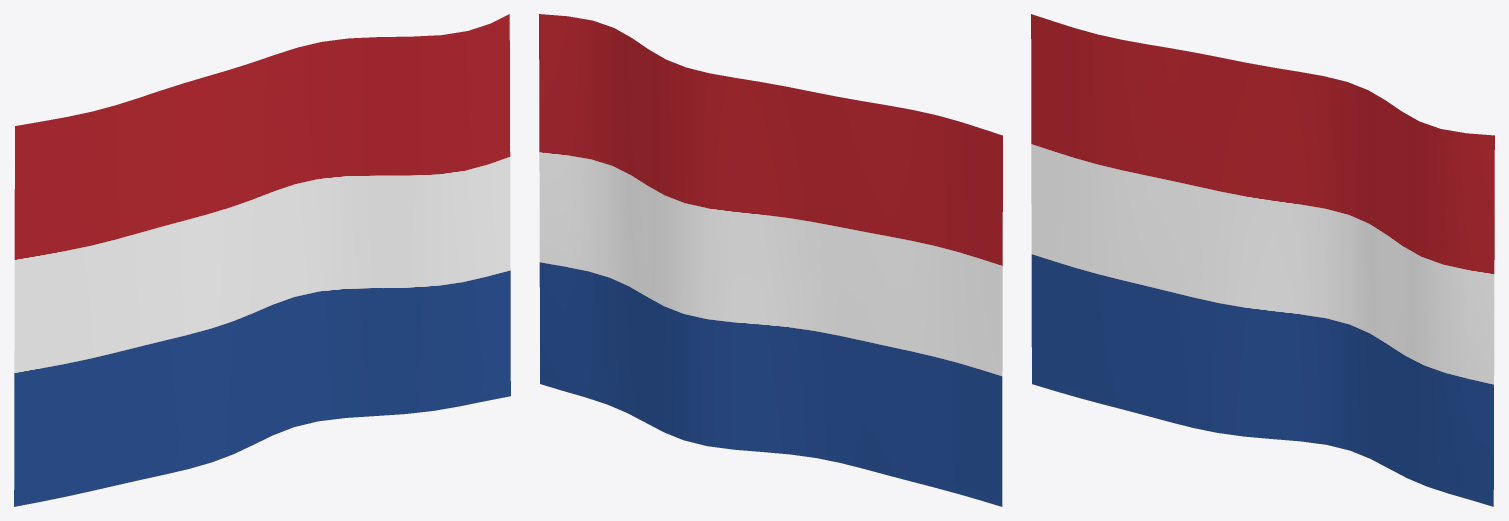
File: NL_Netherlands.glb
The picture shows the model from 3 angles, left to right: view 1: azimuth 30°, elevation 25°; view 2: azimuth 150°, elevation 25°; view 3: azimuth 330°, elevation 25°; orthographic projection. The views are drawn at different scales.
Parts seen in each view (by area): view 1: NL_flag; view 2: NL_flag; view 3: NL_flag.
Boxes of the visible parts, x1=… form: NL_flag: x1=14, y1=14, x2=510, y2=506; NL_flag: x1=539, y1=14, x2=1002, y2=506; NL_flag: x1=1031, y1=14, x2=1494, y2=506.
Size of the model in its own units: 1.33 by 1 by 0.1347.
1 material, 1 textured.
